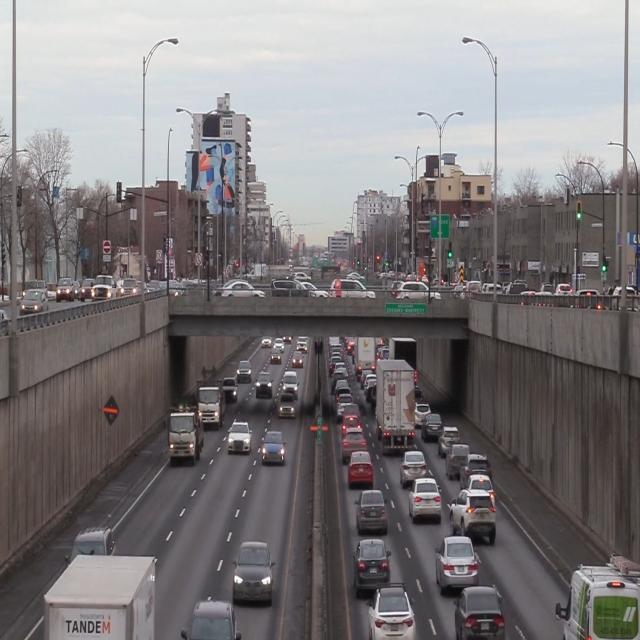Car: (231, 540, 275, 603), (179, 597, 241, 639), (64, 526, 116, 564)
Traffic-light: (115, 180, 122, 202), (575, 200, 581, 220)
Truck: (43, 553, 157, 639)
